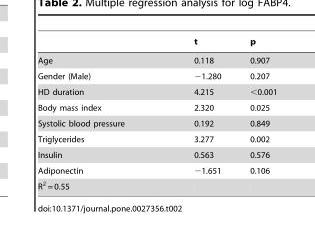table: (37, 36, 276, 190)
table column: (37, 36, 158, 190), (158, 36, 234, 190), (234, 36, 276, 190)
table column header: (37, 36, 276, 50)
table row: (37, 50, 276, 67), (37, 67, 276, 83), (37, 83, 276, 99), (37, 99, 276, 115), (37, 115, 276, 131), (37, 146, 276, 162), (37, 131, 276, 146), (37, 162, 276, 177), (37, 36, 276, 50), (37, 177, 276, 190)
